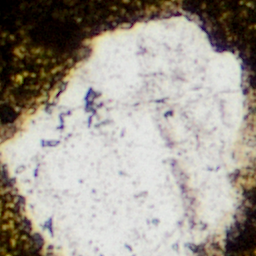cement_matrix: (0, 0, 255, 133), (0, 165, 45, 255), (219, 181, 255, 255), (85, 90, 98, 113)
gravel_crushed_stones: (0, 12, 255, 255), (84, 89, 99, 114)
